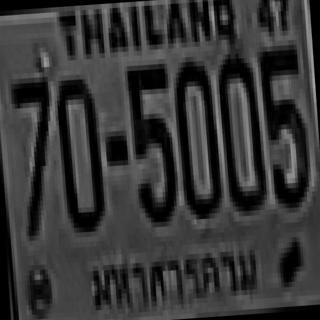N00: (53, 74, 103, 228), (215, 50, 263, 210), (172, 56, 220, 215)
N05: (256, 39, 310, 204), (124, 58, 178, 223)
N07: (8, 75, 56, 234)
P25: (80, 242, 262, 314)
